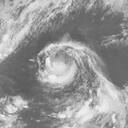cyclone: (37, 41, 79, 92)
